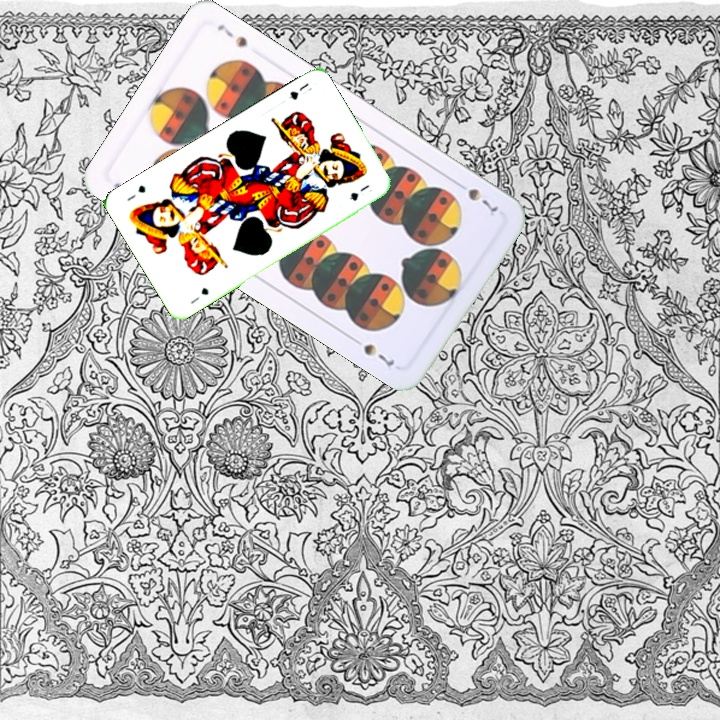GU: (285, 78, 315, 103), (187, 283, 211, 307)
S7: (451, 177, 501, 215)
